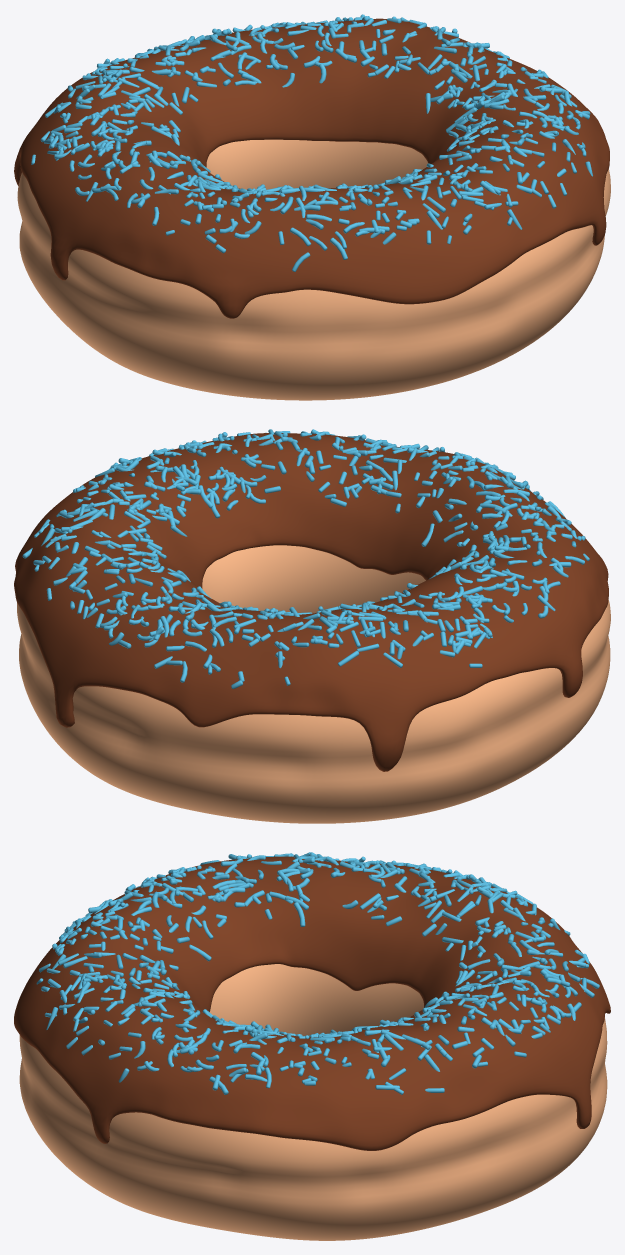
3 views of the same model, one above another, from view 1: azimuth 30°, elevation 25°; view 2: azimuth 150°, elevation 25°; view 3: azimuth 270°, elevation 25° (orthographic).
Parts seen in each view (by area): view 1: Es; view 2: Es; view 3: Es.
Boxes of the visible parts, bbox=[...] form: Es: bbox=[14, 18, 610, 400]; Es: bbox=[14, 433, 610, 823]; Es: bbox=[14, 856, 610, 1240].
Bounding box in the file's own units: 14.96 × 5.63 × 14.58.
